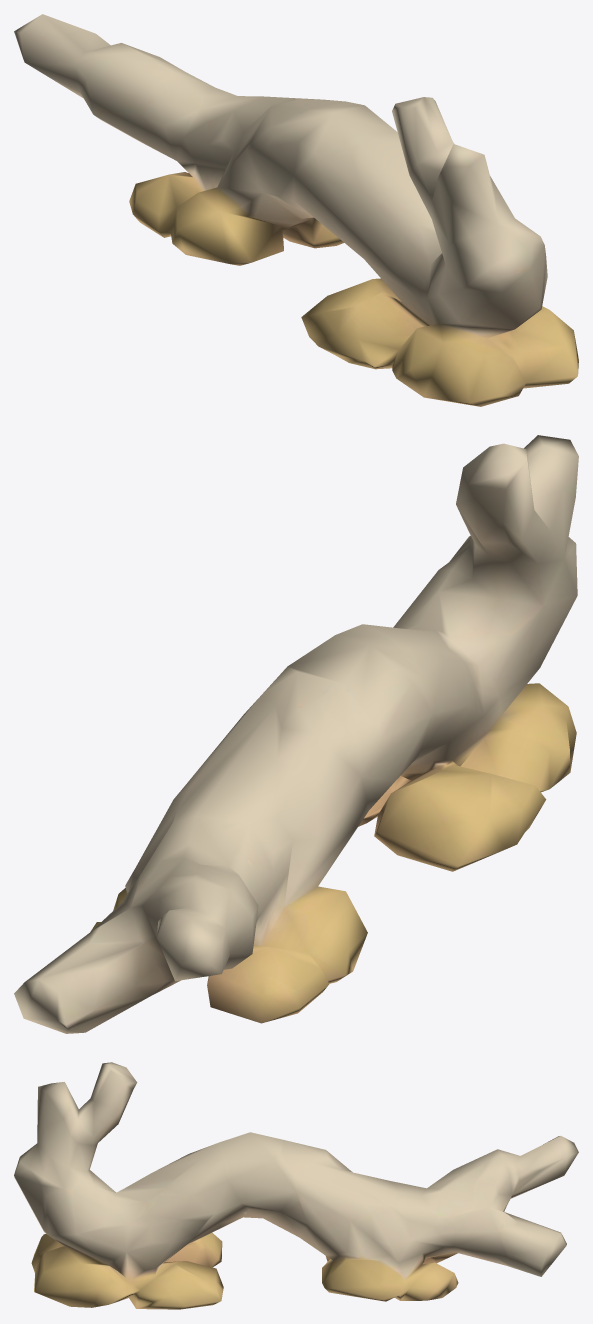
File: driftwood.glb
3 views of the same model, one above another, from view 1: azimuth 30°, elevation 25°; view 2: azimuth 150°, elevation 25°; view 3: azimuth 270°, elevation 25° (orthographic). The views are drawn at different scales.
Parts seen in each view (by area): view 1: tripo_node_4b8418f6-d5f0-4e66-9ba0-14b1a0f956e7; view 2: tripo_node_4b8418f6-d5f0-4e66-9ba0-14b1a0f956e7; view 3: tripo_node_4b8418f6-d5f0-4e66-9ba0-14b1a0f956e7.
Boxes of the visible parts, <box> form: tripo_node_4b8418f6-d5f0-4e66-9ba0-14b1a0f956e7: <box>14,14,578,406</box>; tripo_node_4b8418f6-d5f0-4e66-9ba0-14b1a0f956e7: <box>14,435,578,1033</box>; tripo_node_4b8418f6-d5f0-4e66-9ba0-14b1a0f956e7: <box>14,1062,578,1309</box>.
Size of the model in its own units: 0.3384 by 0.3849 by 0.9997.
Materials: 1 (1 with a texture image).
